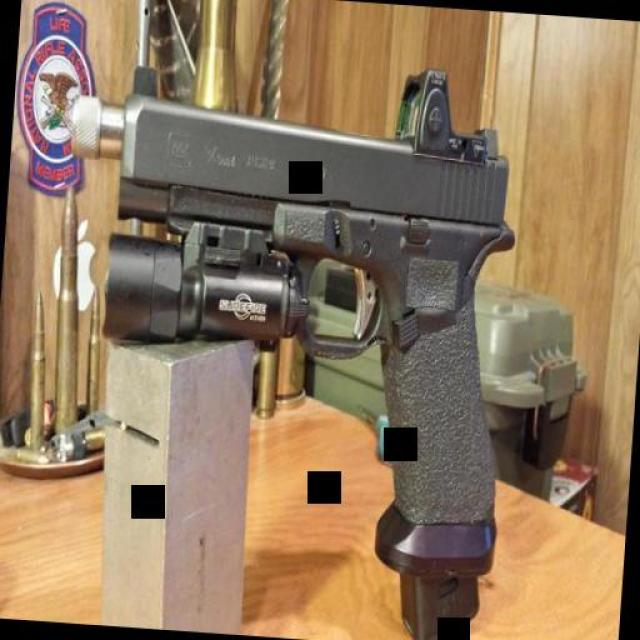gun: (85, 35, 527, 637)
